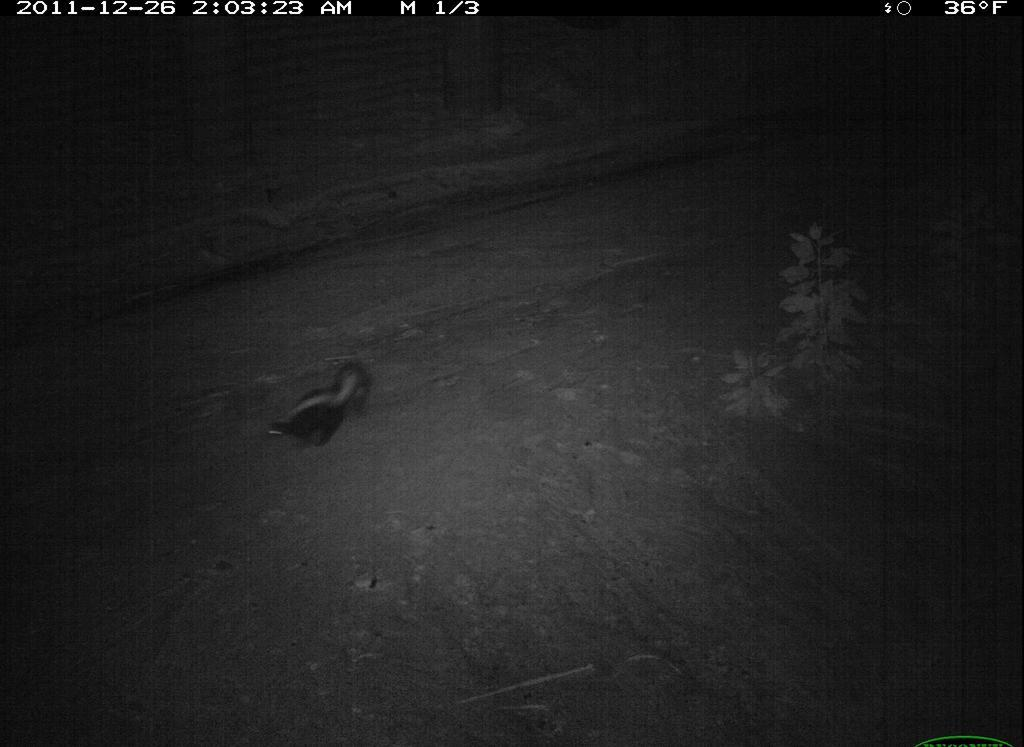skunk: (219, 341, 413, 488)
